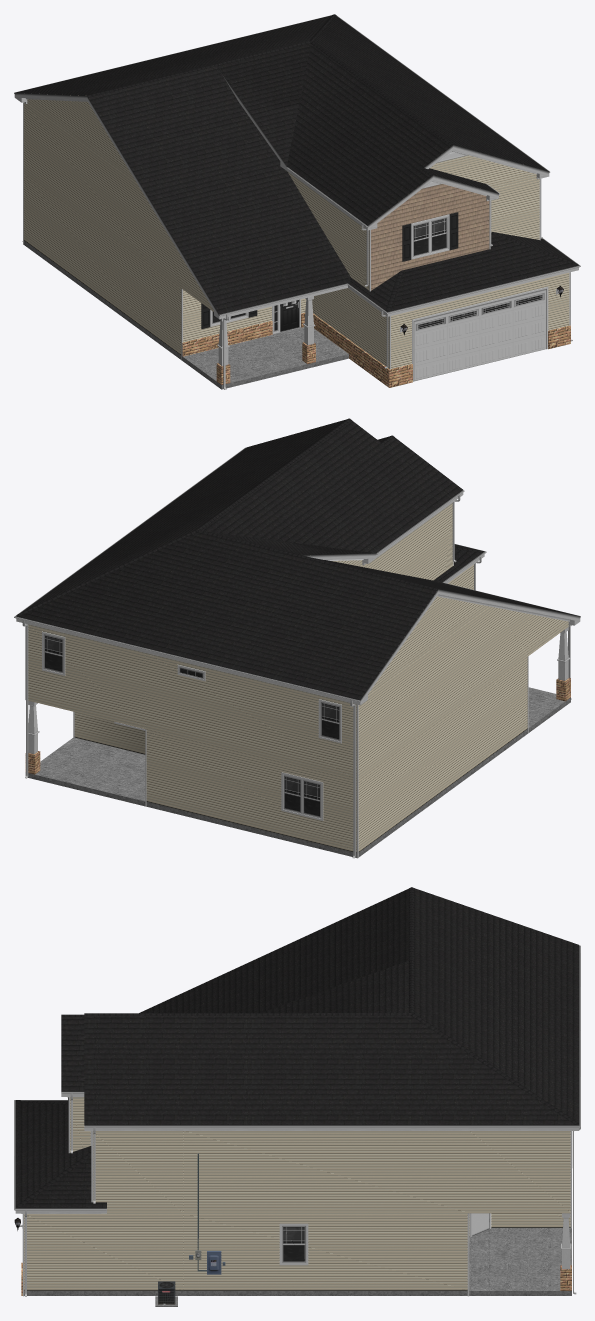
File: house22_mirror2.fbx
3 renders of one model, top to bottom at view 1: azimuth 30°, elevation 25°; view 2: azimuth 150°, elevation 25°; view 3: azimuth 270°, elevation 25°, orthographic. The views are drawn at different scales.
Visible parts, largest first — view 1: house22_mirror2_LOD0; view 2: house22_mirror2_LOD0; view 3: house22_mirror2_LOD0.
Boxes of the visible parts, left/top/right/bottom form: house22_mirror2_LOD0: left=14, top=14, right=580, bottom=389; house22_mirror2_LOD0: left=14, top=418, right=580, bottom=858; house22_mirror2_LOD0: left=14, top=887, right=580, bottom=1306.
Size of what is drawn, in the model's own units: 3.89 by 2.24 by 4.96.
